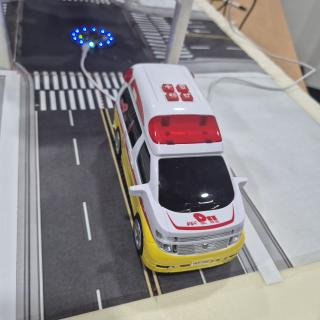Ambulance: (114, 63, 247, 272)
